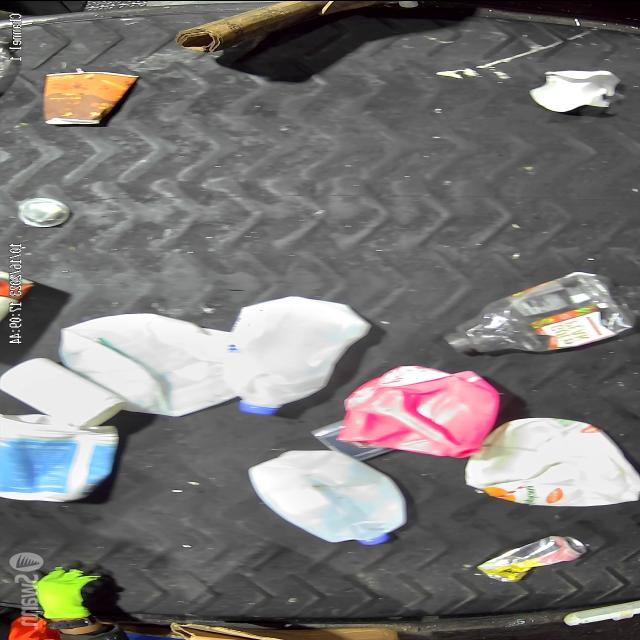can: (472, 534, 586, 579), (15, 192, 70, 228)
milk_jug: (234, 292, 372, 410), (246, 448, 396, 538)
non_white_jug: (343, 368, 489, 452)
plastic_bottle: (447, 277, 630, 355)
